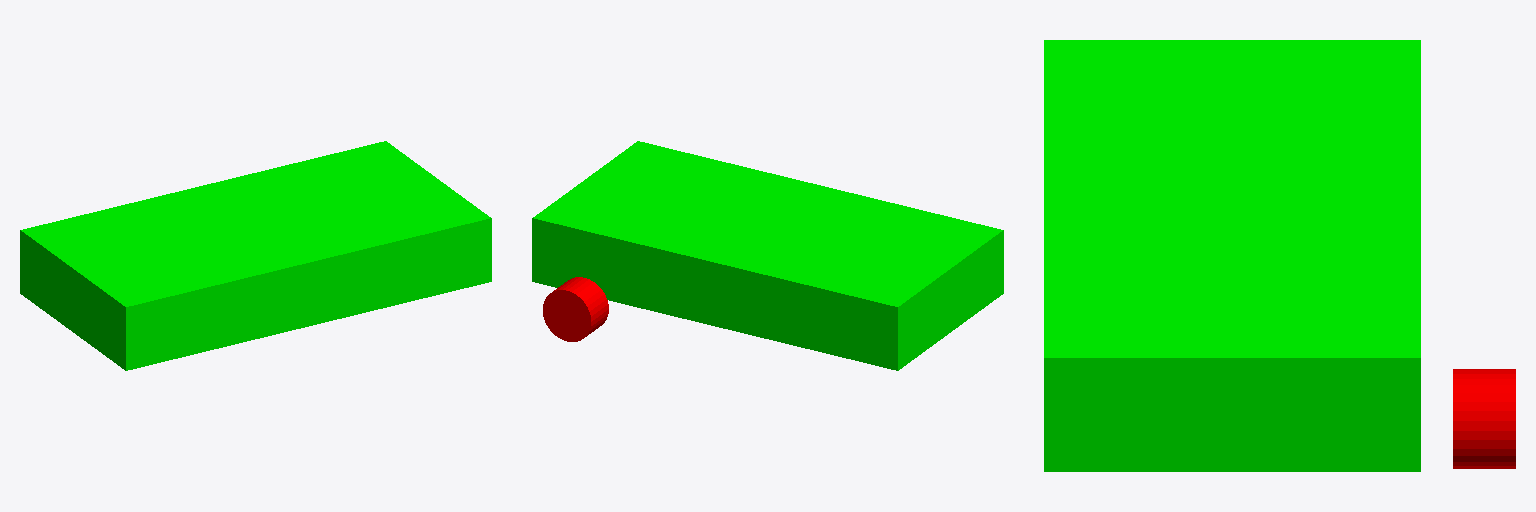
robot.urdf — bot:
<?xml version="1.0"?>
<robot name="bot">
  <link name="base_link">
    <visual>
      <geometry>
        <box size="0 0 0"/>
      </geometry>
      <material name="red">
        <color rgba="1 0 1 1"/>
      </material>
    </visual>
  </link>

  <link name="torso">
    <visual>
      <geometry>
        <box size="0.6 0.3 0.1"/>
      </geometry>
      <material name="green">
        <color rgba="0 1 0 1"/>
      </material>
    </visual>
  </link>

  <joint name="base_link_torso" type="continuous">
    <parent link="base_link" />
    <child link="torso" />
    <origin xyz="0 0 0" rpy="0 0 0"/>
  </joint>

  <link name="left_wheel_frontside">
    <visual>
      <geometry>
        <cylinder radius="0.04" length="0.05" />
      </geometry>
      <material name="red">
        <color rgba="1 0 0 1"/>
      </material>
    </visual>
  </link>

  <joint name="base_link_left_wheel_frontside" type="continuous">
    <parent link="base_link" />
    <child link="left_wheel_frontside" />
    <origin xyz="0.2 0.2 -0.05" rpy="1.570796 0 0"/>
  </joint>

  <!-- 
      ...
   -->
</robot>

--- Facts derived from the render (not from the file) ---
Views: 3 orthographic renders of the robot side by side, from view 1: azimuth 30°, elevation 25°; view 2: azimuth 150°, elevation 25°; view 3: azimuth 270°, elevation 25°.
Robot: bot — 3 links, 2 joints (2 continuous); root link base_link; default pose: every joint at zero.
Visible links, largest first — view 1: torso; view 2: torso, left_wheel_frontside; view 3: torso, left_wheel_frontside.
Boxes of the visible links, left/top/right/bottom form: torso: left=20, top=141, right=491, bottom=370; torso: left=532, top=141, right=1003, bottom=370; left_wheel_frontside: left=543, top=277, right=608, bottom=341; torso: left=1044, top=40, right=1420, bottom=471; left_wheel_frontside: left=1453, top=369, right=1515, bottom=468.
Bounding box of the posed robot: 0.6 × 0.375 × 0.14 m (x, y, z).
Geometry: primitives only (box / cylinder / sphere), no mesh files.